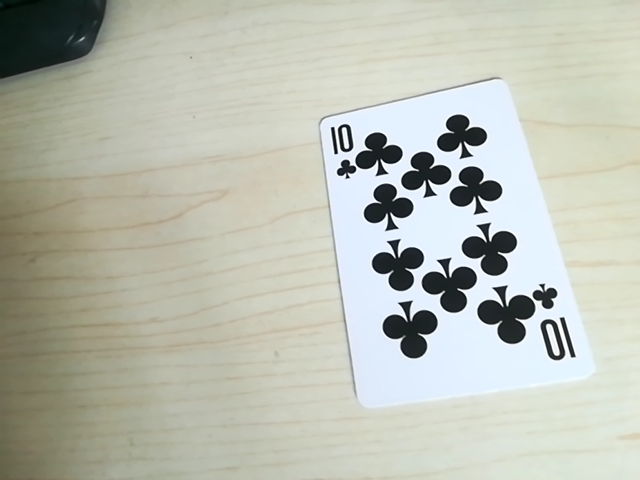mh 10: (536, 278, 573, 371), (322, 122, 360, 181)
